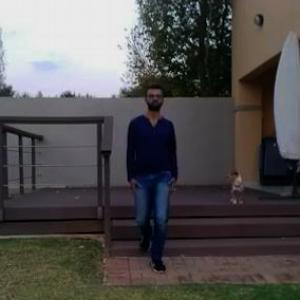follow: (122, 79, 171, 278)
